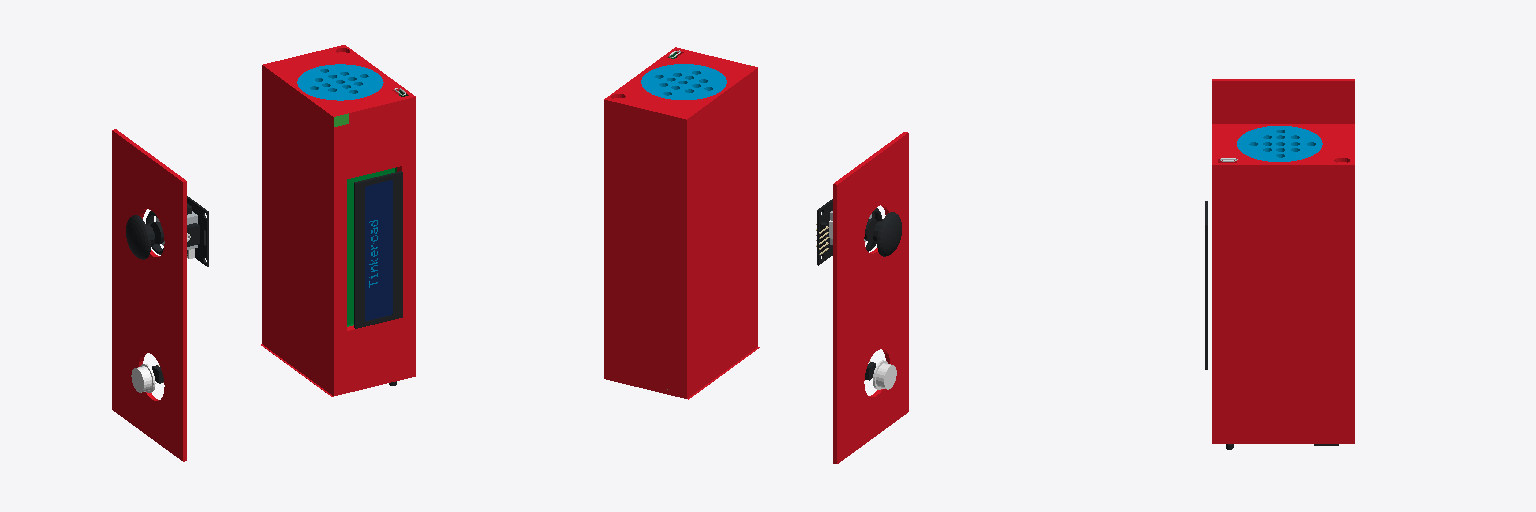
Rendered from tinker.obj.
3 views of the same model, side by side, from view 1: azimuth 30°, elevation 25°; view 2: azimuth 150°, elevation 25°; view 3: azimuth 270°, elevation 25° (orthographic).
Parts seen in each view (by area): view 1: obj_0; view 2: obj_0; view 3: obj_0.
Boxes of the visible parts, box(x1,y1,x2,y2) form: obj_0: box(112, 45, 415, 461); obj_0: box(604, 47, 908, 463); obj_0: box(1205, 79, 1354, 449).
Bounding box in the file's own units: 127 × 149 × 65.3.